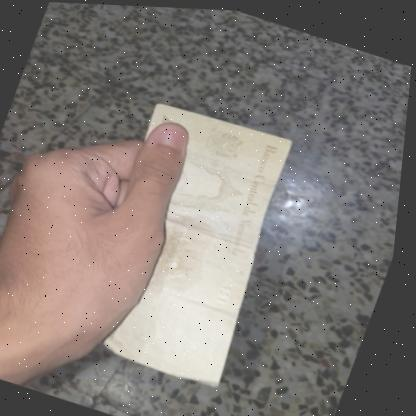five-back-vef: (72, 94, 312, 387)
